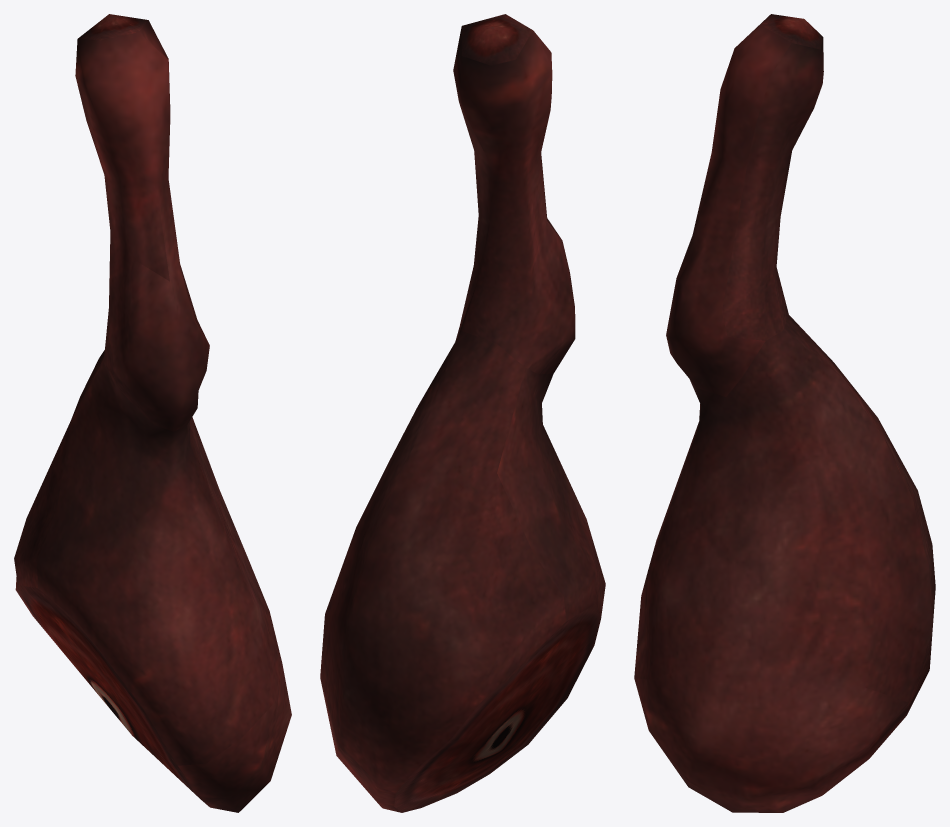
Rendered from meat_02.dae.
3 views of the same model, side by side, from view 1: azimuth 30°, elevation 25°; view 2: azimuth 150°, elevation 25°; view 3: azimuth 270°, elevation 25° (orthographic). The views are drawn at different scales.
Parts seen in each view (by area): view 1: meat_02; view 2: meat_02; view 3: meat_02.
Part boxes in pixels (x1,y1,x2,y2): meat_02: (14,14,291,812); meat_02: (320,14,605,812); meat_02: (634,14,935,812).
Bounding box in the file's own units: 0.0334 × 0.1159 × 0.0421.
